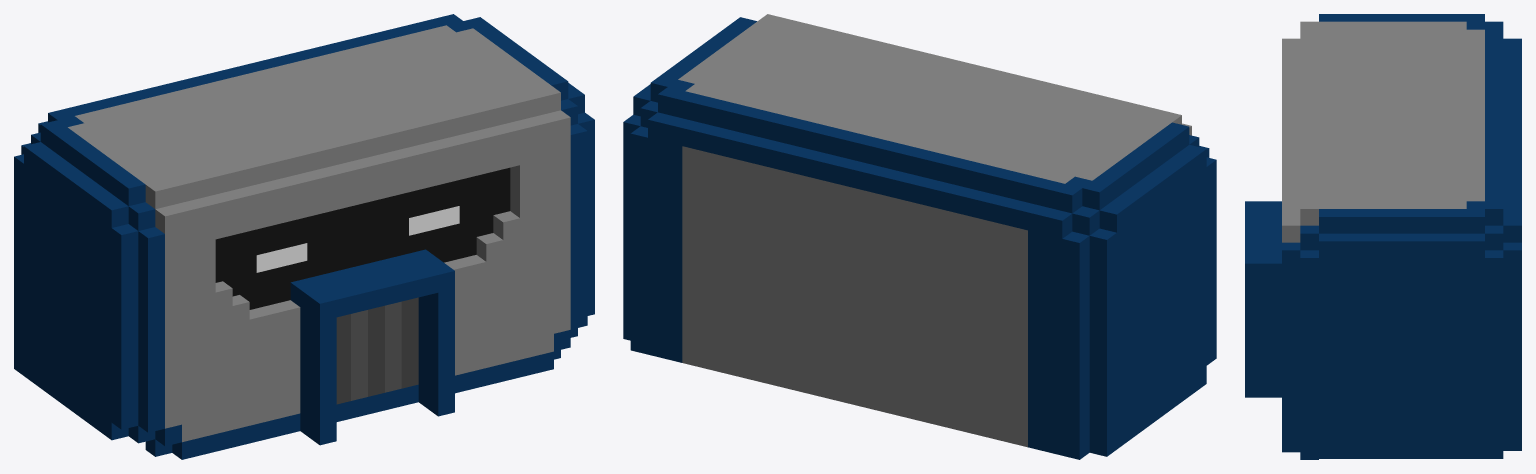
Rendered from RbtHead.obj.
The picture shows the model from 3 angles, left to right: view 1: azimuth 30°, elevation 25°; view 2: azimuth 150°, elevation 25°; view 3: azimuth 270°, elevation 25°; orthographic projection. The views are drawn at different scales.
Bounding box in the file's own units: 28 × 15 × 15.
1 material, 1 textured.
